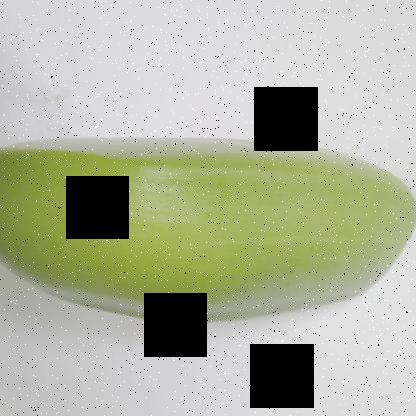freshunripe: (1, 121, 415, 343)
